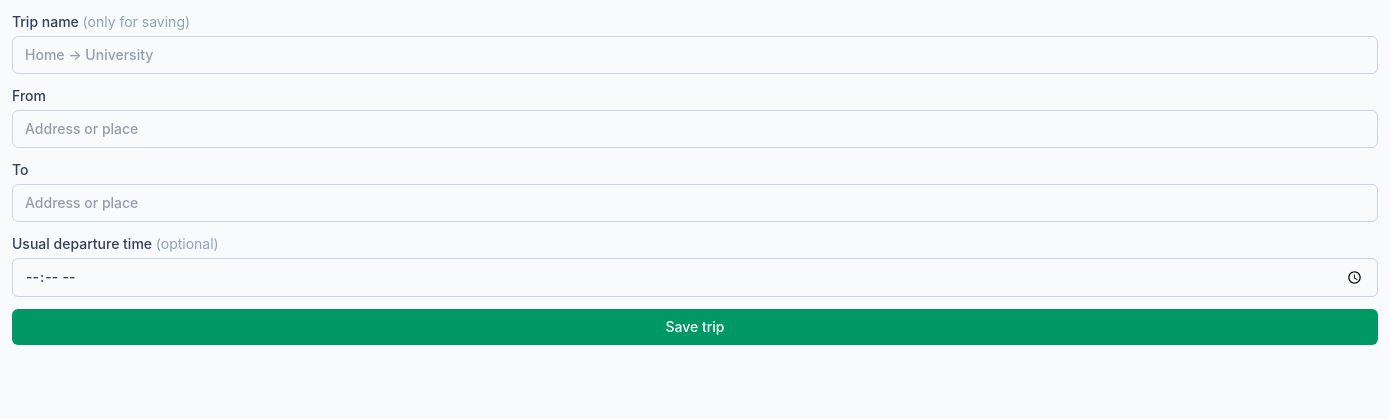
AddTripForm › shows the backend message if saving fails
In the field labelled "Trip name (only for saving)": (695, 55) [12,36,1378,74], type "Home -> Uni"
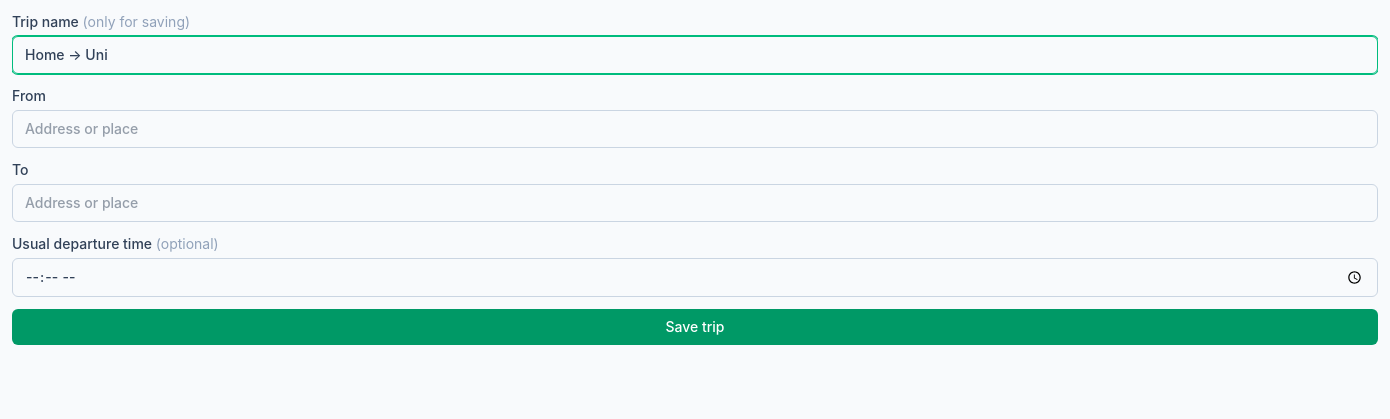
In the field labelled "From": (695, 129) [12,110,1378,148], type "Gdansk Glowny"
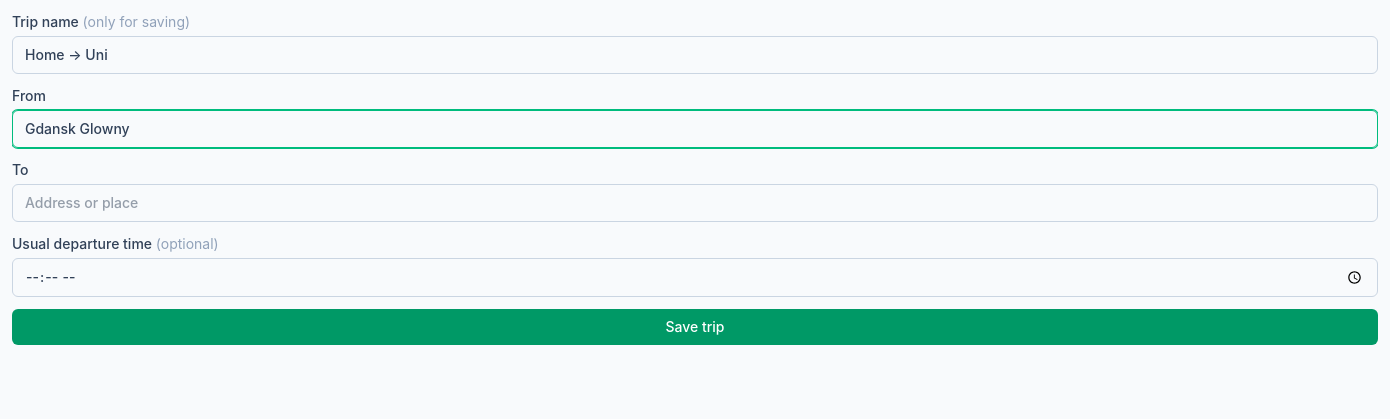
In the field labelled "To": (695, 203) [12,184,1378,222], type "Politechnika"
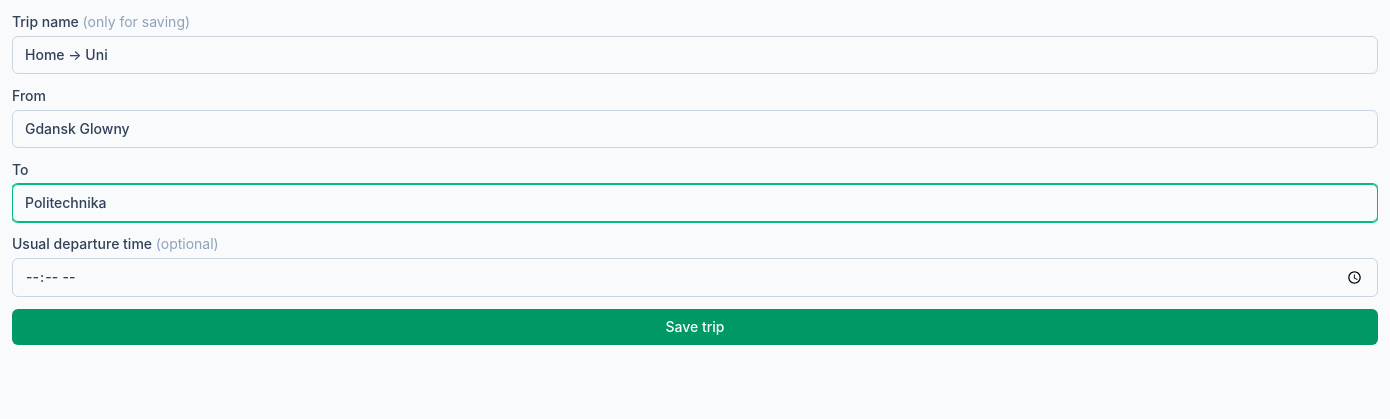
Click the button "Save trip": (695, 327) [12,309,1378,345]
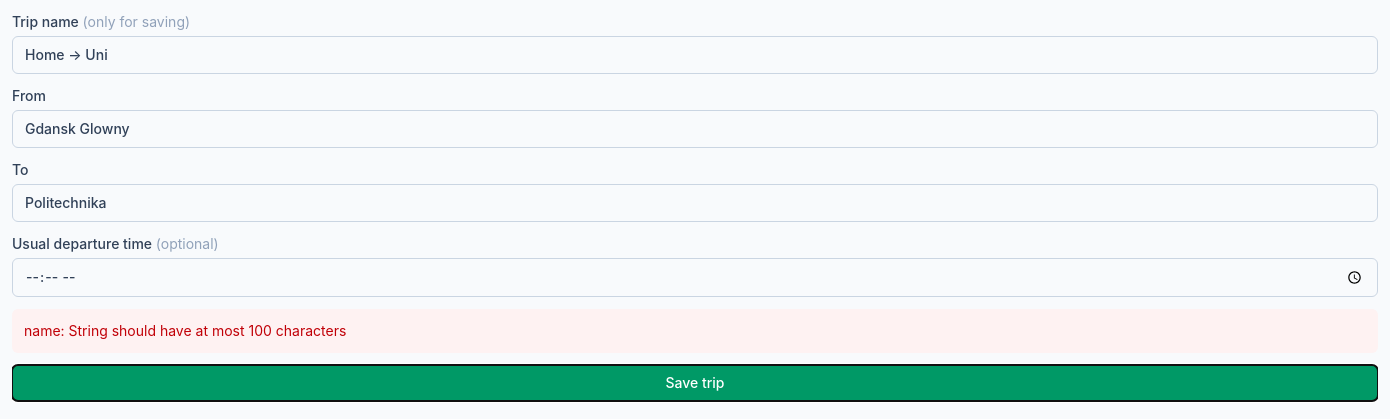
Expected: the message shows "at most 100 characters", [24,322,346,339]
